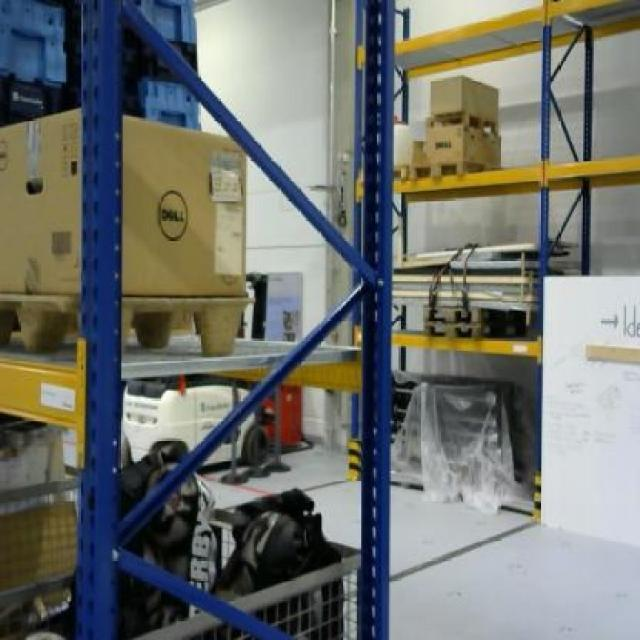box: (0, 108, 245, 296), (428, 73, 499, 124), (424, 124, 501, 170)
